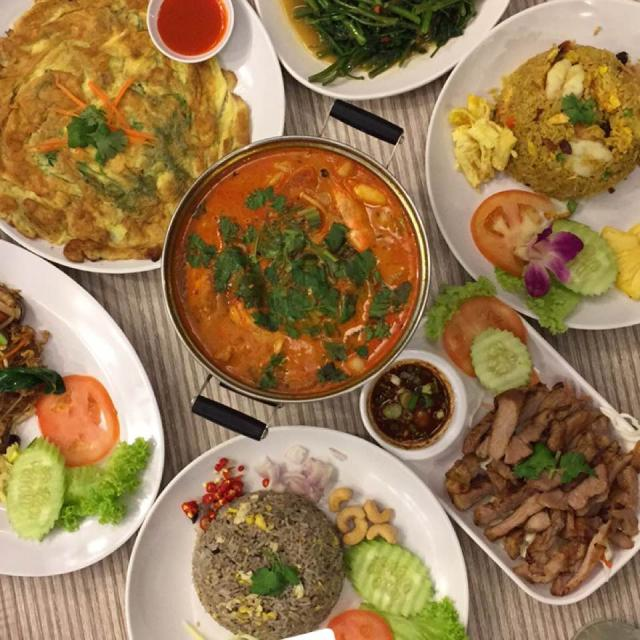com chien: (161, 482, 358, 640), (482, 40, 640, 199)
heo nuong: (436, 368, 640, 593)
lau thai: (160, 142, 423, 399)
rau muong xao: (286, 0, 463, 76)
trung chien: (0, 0, 254, 254)
